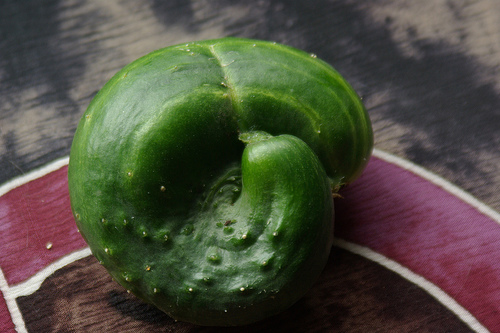cucumber: (71, 40, 372, 321)
